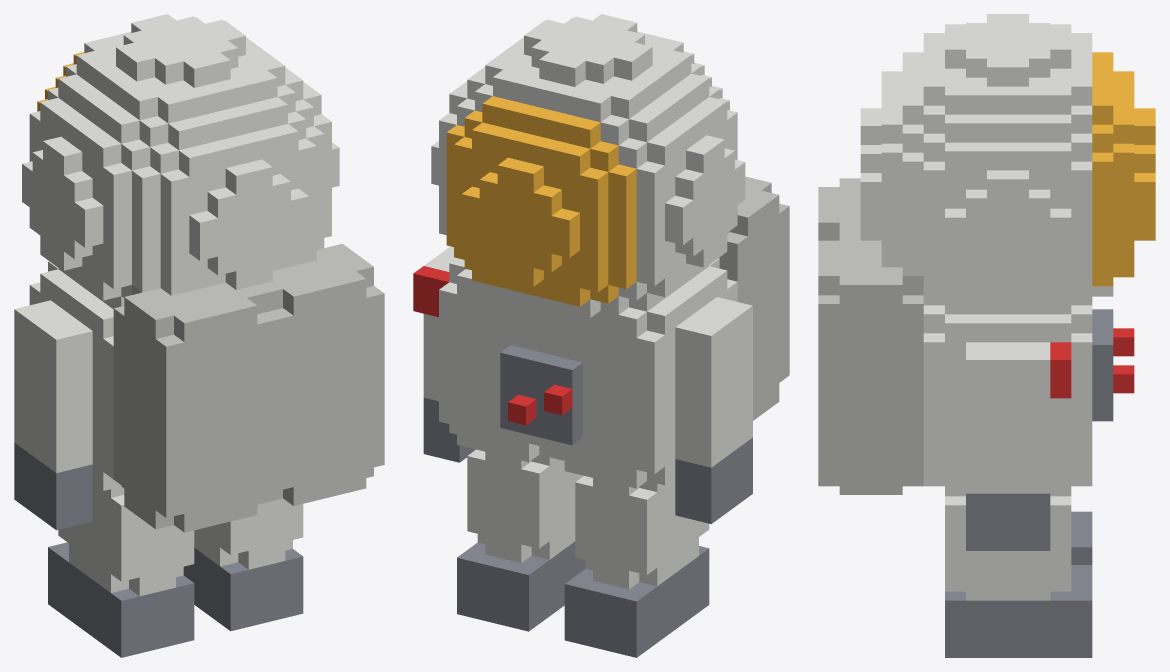
The model's file is astronauta.obj.
The picture shows the model from 3 angles, left to right: view 1: azimuth 30°, elevation 25°; view 2: azimuth 150°, elevation 25°; view 3: azimuth 270°, elevation 25°; orthographic projection.
Visible parts, largest first — view 1: casco, mochila, botas, piernas, brazos, torso, guantes; view 2: casco, torso, casco_visor, piernas, botas, brazos, mochila, guantes, panel, panel_luces, parche; view 3: casco, mochila, torso, brazos, casco_visor, botas, piernas, guantes, panel, panel_luces, parche.
Boxes of the visible parts, box(x1,y1,x2,y2) form: casco: box(22, 14, 339, 309); mochila: box(113, 244, 384, 532); botas: box(48, 542, 303, 657); piernas: box(58, 483, 303, 596); brazos: box(14, 300, 92, 472); torso: box(29, 261, 124, 490); guantes: box(14, 442, 92, 530); casco: box(431, 14, 745, 329); torso: box(439, 258, 737, 488); casco_visor: box(446, 96, 636, 306); piernas: box(467, 449, 709, 589); botas: box(457, 541, 709, 657); brazos: box(423, 246, 752, 467); mochila: box(719, 176, 789, 420); guantes: box(423, 397, 752, 524); panel: box(500, 345, 582, 445); panel_luces: box(508, 384, 572, 425); parche: box(413, 266, 449, 317); casco: box(860, 14, 1113, 314); mochila: box(818, 178, 923, 494); torso: box(923, 305, 1092, 494); brazos: box(966, 342, 1050, 493); casco_visor: box(1092, 52, 1155, 286); botas: box(945, 511, 1092, 657); piernas: box(945, 495, 1071, 600); guantes: box(966, 493, 1050, 550); panel: box(1092, 309, 1113, 421); panel_luces: box(1113, 328, 1134, 393); parche: box(1050, 342, 1071, 398).
Size of the model in its own units: 0.64 by 1.2 by 0.64.
